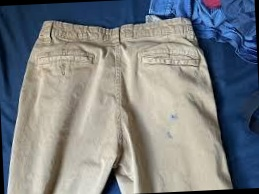ink: (166, 130, 173, 141), (170, 113, 179, 119)
